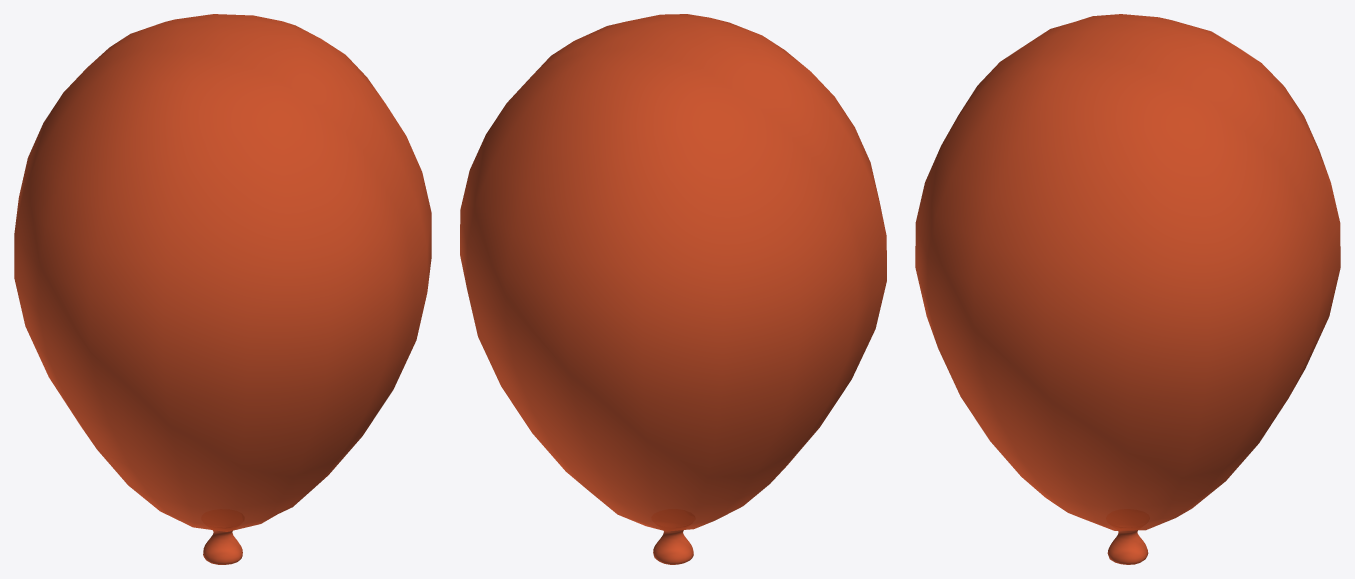
File: Balloon.fbx
3 views of the same model, side by side, from view 1: azimuth 30°, elevation 25°; view 2: azimuth 150°, elevation 25°; view 3: azimuth 270°, elevation 25° (orthographic).
Parts seen in each view (by area): view 1: Balloon; view 2: Balloon; view 3: Balloon.
Boxes of the visible parts, bbox=[...] form: Balloon: bbox=[14, 14, 431, 564]; Balloon: bbox=[460, 14, 886, 564]; Balloon: bbox=[915, 14, 1340, 564].
Size of the model in its own units: 94.07 by 128 by 94.07.
